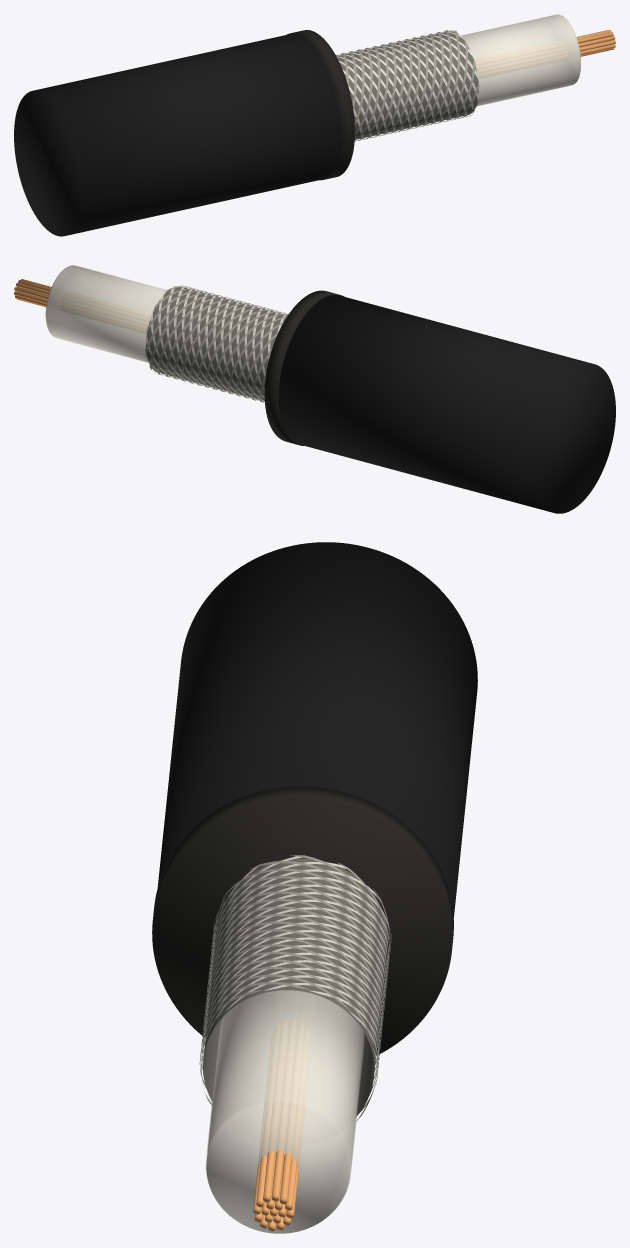
3 renders of one model, top to bottom at view 1: azimuth 30°, elevation 25°; view 2: azimuth 150°, elevation 25°; view 3: azimuth 270°, elevation 25°, orthographic. The views are drawn at different scales.
Parts seen in each view (by area): view 1: matte black pvc jacket body, gas injected foam dielectric, smooth dielectric skin, braid dark diamond recess, jacket cut lip, braid left hand woven carrier 11, braid left hand woven carrier 12, braid left hand woven carrier 10, braid left hand woven carrier 01, braid left hand woven carrier 02, braid left hand woven carrier 09, braid right hand woven carrier 01 (+4 smaller); view 2: matte black pvc jacket body, smooth dielectric skin, gas injected foam dielectric, braid dark diamond recess, jacket cut lip, braid left hand woven carrier 08, braid left hand woven carrier 07, braid left hand woven carrier 06, braid left hand woven carrier 09, braid left hand woven carrier 10, braid right hand woven carrier 08, braid left hand woven carrier 05 (+3 smaller); view 3: matte black pvc jacket body, jacket cut lip, gas injected foam dielectric, smooth dielectric skin, braid dark diamond recess, braid left hand woven carrier 08, braid left hand woven carrier 09, braid left hand woven carrier 07, braid left hand woven carrier 10, braid left hand woven carrier 06, braid left hand woven carrier 11.
Boxes of the visible parts, box(x1,y1,x2,y2) form: matte black pvc jacket body: box(14, 33, 340, 236); gas injected foam dielectric: box(462, 14, 580, 105); smooth dielectric skin: box(461, 14, 579, 106); braid dark diamond recess: box(337, 31, 478, 139); jacket cut lip: box(286, 30, 354, 180); braid left hand woven carrier 11: box(354, 30, 459, 126); braid left hand woven carrier 12: box(355, 39, 467, 135); braid left hand woven carrier 10: box(349, 30, 452, 128); braid left hand woven carrier 01: box(354, 46, 475, 140); braid left hand woven carrier 02: box(355, 44, 479, 141); braid left hand woven carrier 09: box(341, 32, 444, 130); braid right hand woven carrier 01: box(342, 38, 474, 135); matte black pvc jacket body: box(278, 295, 615, 513); smooth dielectric skin: box(46, 265, 166, 362); gas injected foam dielectric: box(45, 265, 166, 362); braid dark diamond recess: box(146, 286, 287, 401); jacket cut lip: box(264, 290, 344, 445); braid left hand woven carrier 08: box(145, 292, 283, 396); braid left hand woven carrier 07: box(149, 295, 278, 398); braid left hand woven carrier 06: box(157, 297, 272, 400); braid left hand woven carrier 09: box(146, 290, 286, 394); braid left hand woven carrier 10: box(153, 288, 288, 392); braid right hand woven carrier 08: box(158, 293, 265, 391); braid left hand woven carrier 05: box(165, 299, 266, 402); matte black pvc jacket body: box(157, 542, 477, 918); jacket cut lip: box(152, 786, 453, 1054); gas injected foam dielectric: box(206, 990, 363, 1233); smooth dielectric skin: box(206, 990, 364, 1213); braid dark diamond recess: box(203, 858, 387, 1116); braid left hand woven carrier 08: box(204, 868, 387, 1084); braid left hand woven carrier 09: box(203, 876, 386, 1045); braid left hand woven carrier 07: box(205, 861, 388, 1121); braid left hand woven carrier 10: box(203, 883, 385, 1045); braid left hand woven carrier 06: box(206, 855, 388, 1094); braid left hand woven carrier 11: box(202, 891, 385, 1053).
Size of the model in its own units: 6.53 by 1.54 by 1.67.
